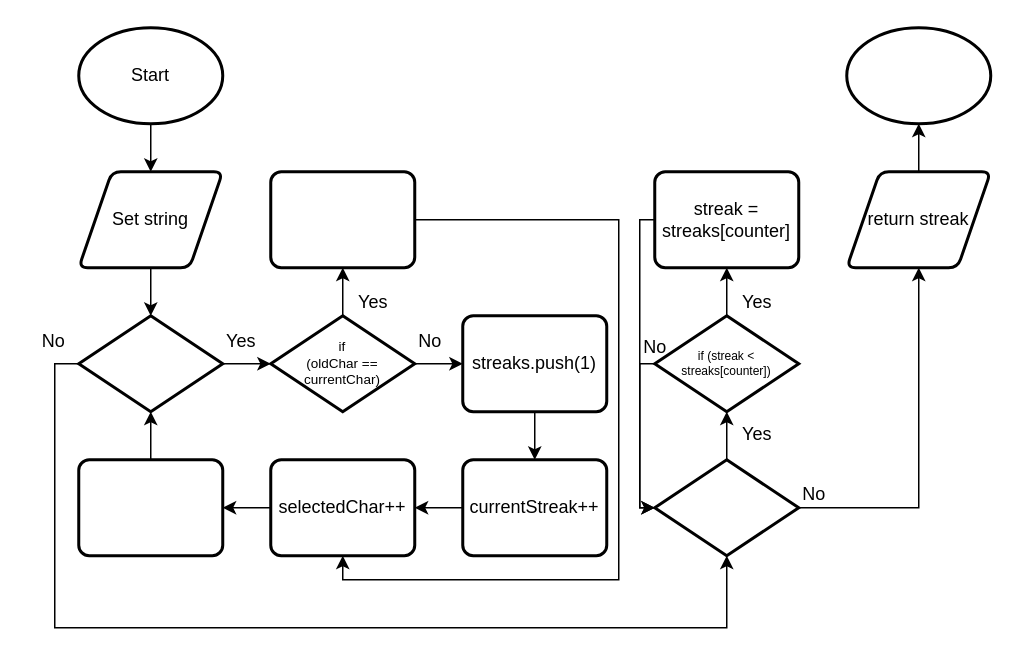
Image size: 1017x666. Some labels were removed from this diagram. The centre of each missing label's shape, as x and y in pixels:
"for (let counter = 0; counter < streaks.length; counter++)" belongs at (726,507).
"for (let counter = 1; counter < string.length; counter++)" belongs at (150,363).
"oldChar = string[selectedChar]" belongs at (150,507).
"Stop" belongs at (918,75).
"streaks[currentStreak]++" belongs at (342,219).
